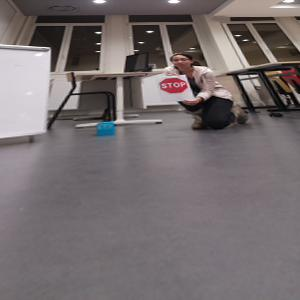big: (1, 46, 51, 138)
small: (97, 122, 115, 135)
